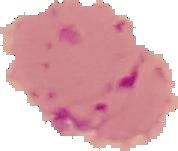parasitized: (30, 18, 147, 136)
